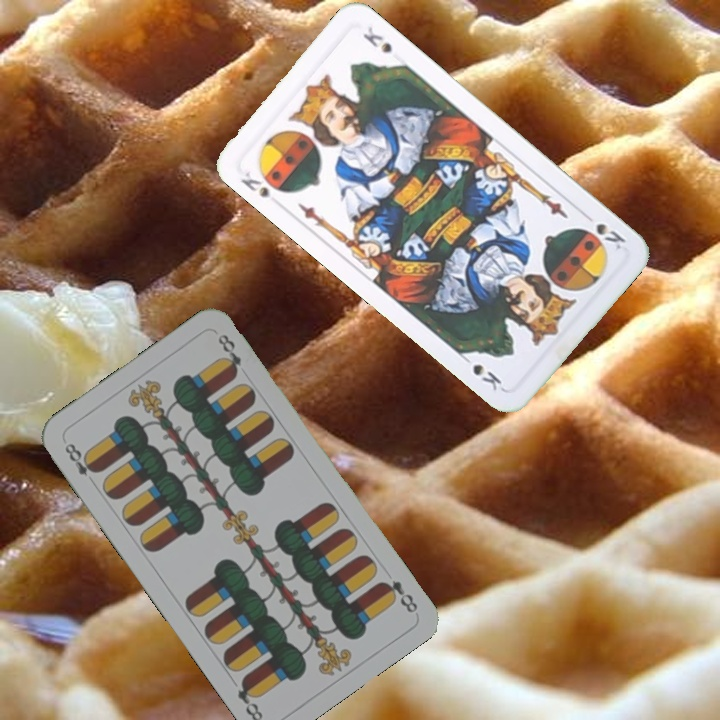E8: (376, 575, 421, 616), (60, 439, 102, 479)
SK: (592, 219, 629, 254), (236, 167, 272, 201)
